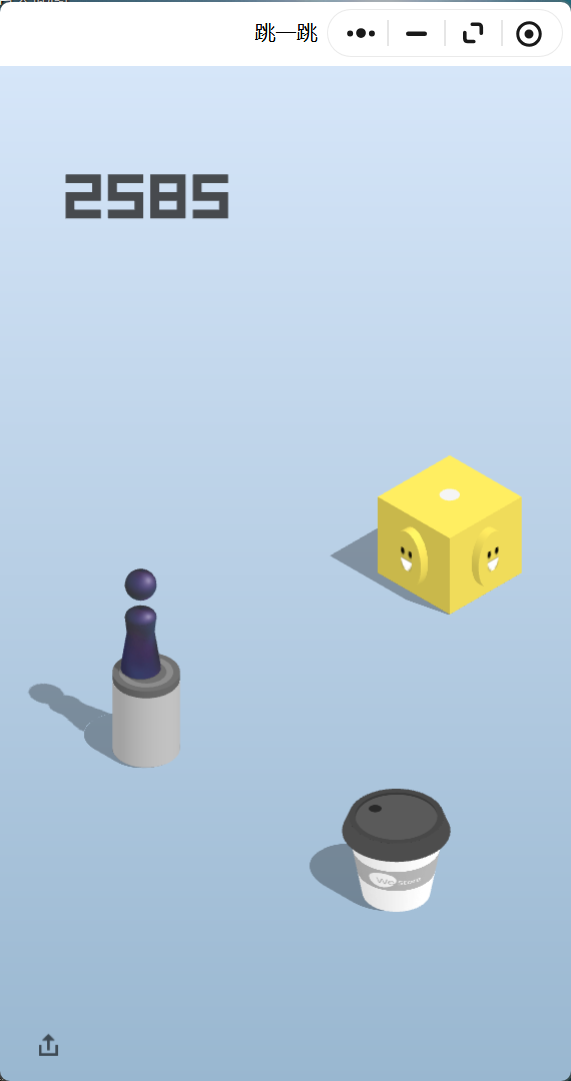piece: (125, 569, 156, 675)
target: (377, 455, 523, 539)
